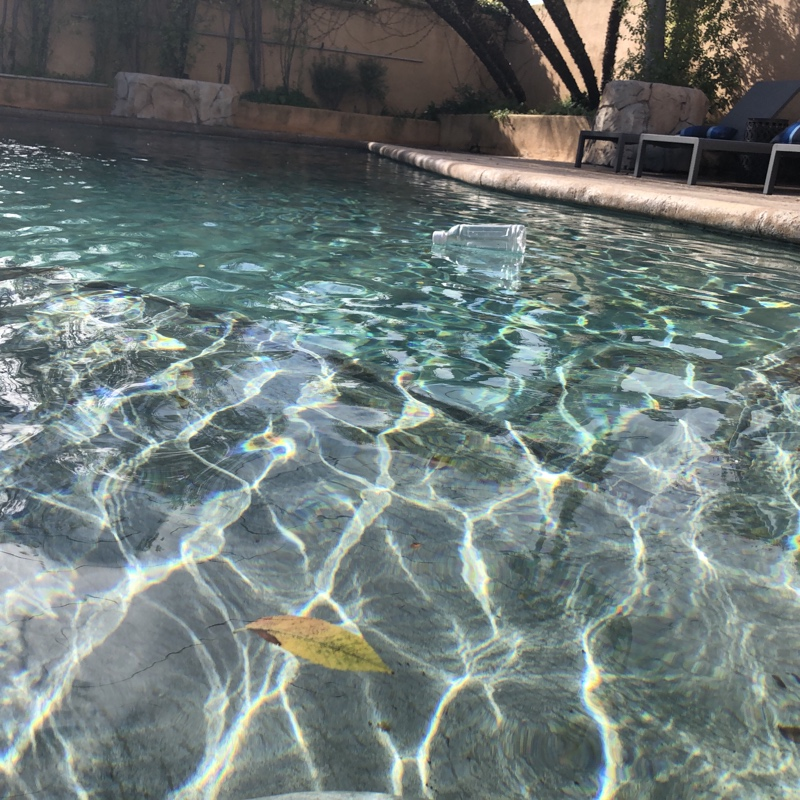Plastic Bottle: (429, 217, 528, 263)
